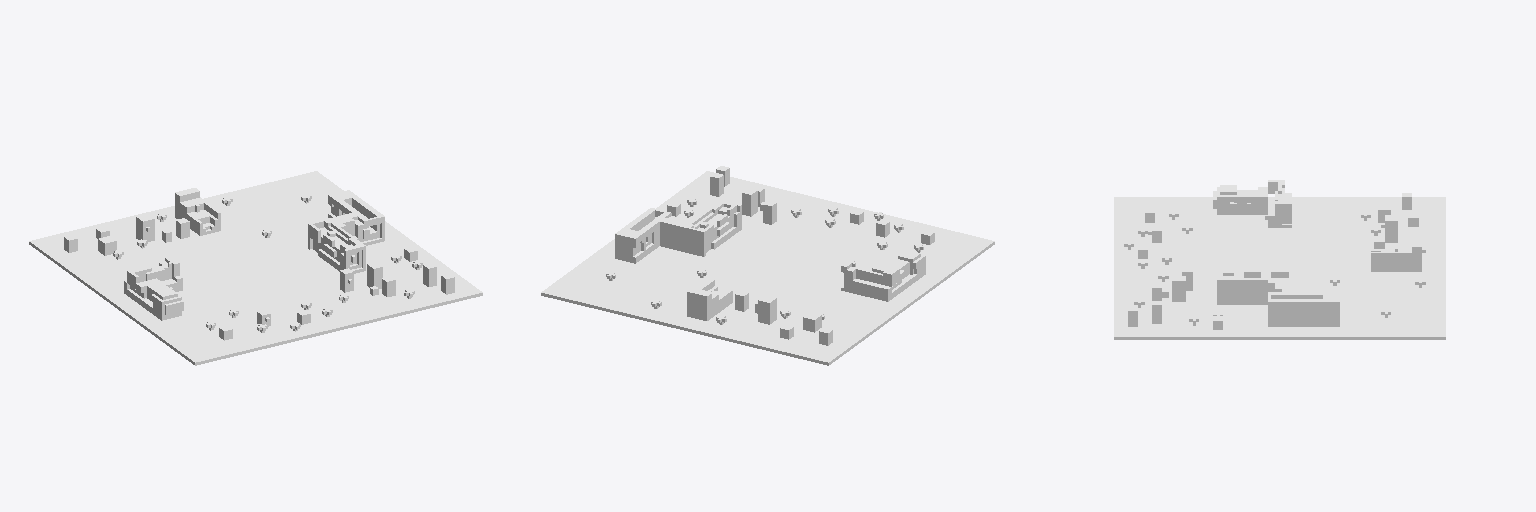
The model's file is Land.obj.
3 renders of one model, left to right at view 1: azimuth 30°, elevation 25°; view 2: azimuth 150°, elevation 25°; view 3: azimuth 270°, elevation 25°, orthographic.
Size of the model in its own units: 97 by 9 by 97.